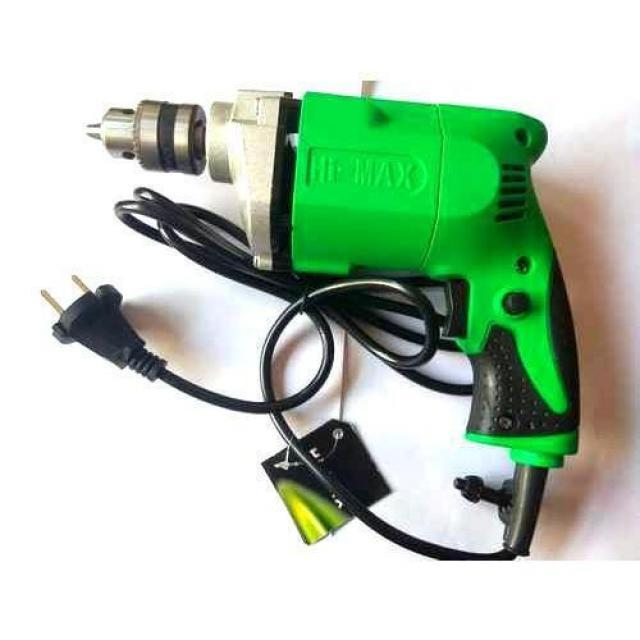drill: (85, 87, 582, 558)
